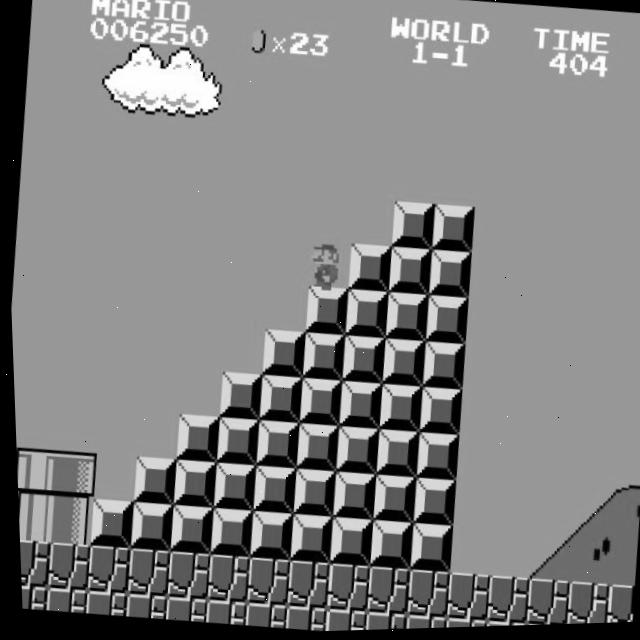11- little_mario: (297, 240, 346, 294)
14- pipe: (44, 495, 91, 546), (14, 491, 51, 542)
15- pipe_head: (47, 450, 95, 501), (13, 446, 54, 497)
17- undestructible_block: (40, 541, 88, 592), (80, 544, 128, 595), (160, 551, 208, 602), (200, 554, 248, 605), (399, 570, 447, 621), (439, 573, 487, 624), (479, 577, 527, 628), (120, 547, 167, 598), (240, 557, 287, 608), (280, 560, 327, 611), (320, 563, 367, 614), (360, 567, 407, 618), (519, 579, 567, 628), (559, 582, 607, 627), (16, 537, 48, 588), (598, 586, 631, 626), (80, 590, 124, 618), (119, 593, 163, 621), (159, 596, 203, 624), (199, 599, 243, 627), (239, 602, 283, 630), (279, 606, 323, 634), (40, 586, 83, 614), (319, 609, 363, 633), (359, 612, 403, 632), (17, 582, 44, 610), (398, 615, 442, 631), (438, 618, 482, 630), (478, 621, 522, 629)
9- hard_block: (127, 456, 175, 507), (207, 462, 255, 513), (203, 508, 251, 559), (283, 514, 331, 565), (333, 381, 381, 432), (326, 472, 374, 523), (323, 518, 371, 569), (380, 293, 428, 344), (373, 385, 421, 436), (420, 296, 468, 347), (406, 479, 454, 530), (403, 524, 451, 575), (164, 504, 211, 556), (84, 498, 131, 549), (124, 501, 171, 552), (167, 459, 214, 510), (214, 371, 261, 422), (254, 375, 301, 426), (247, 466, 294, 517), (244, 511, 291, 562), (301, 287, 348, 338), (294, 378, 341, 429), (287, 469, 334, 520), (344, 245, 391, 296), (341, 290, 388, 341), (384, 248, 431, 299), (367, 476, 414, 527), (363, 521, 410, 572), (424, 251, 471, 302), (417, 342, 464, 393), (414, 388, 461, 439), (171, 414, 218, 464), (410, 434, 457, 484), (291, 423, 337, 474), (211, 417, 257, 467), (258, 329, 304, 379), (251, 420, 297, 470), (298, 332, 344, 382), (338, 336, 384, 386), (331, 427, 377, 477), (388, 203, 434, 253), (378, 339, 424, 389), (371, 430, 417, 480), (428, 206, 474, 256)
